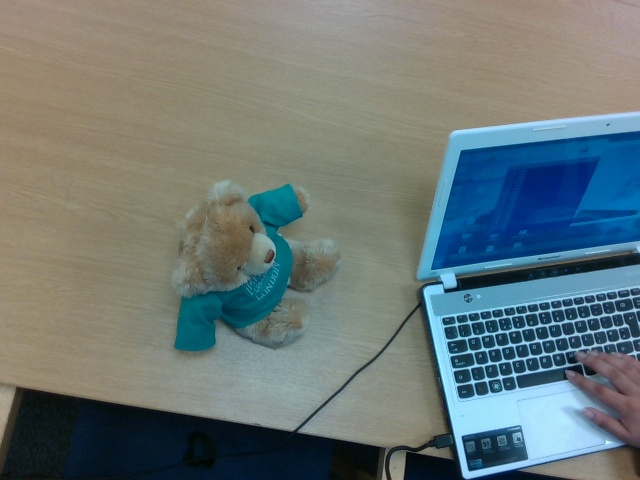teddy: (170, 180, 340, 352)
